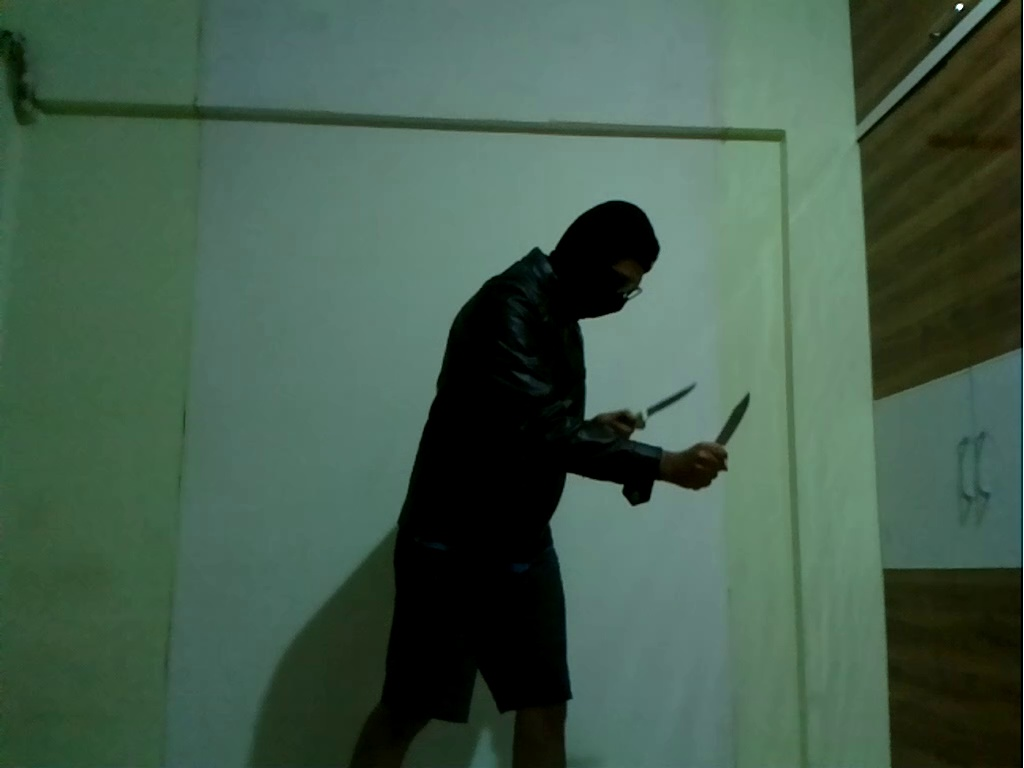knife: (710, 384, 756, 457), (638, 379, 702, 420)
